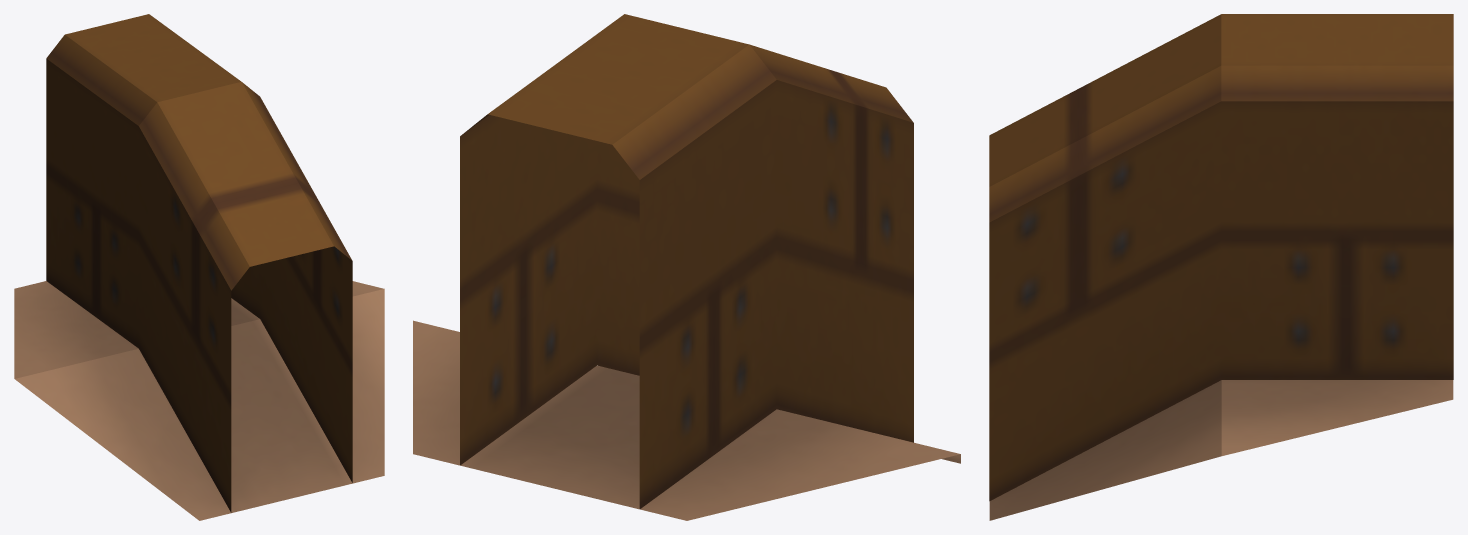
The model's file is Barriere_PHC.FBX.
The picture shows the model from 3 angles, left to right: view 1: azimuth 30°, elevation 25°; view 2: azimuth 150°, elevation 25°; view 3: azimuth 270°, elevation 25°; orthographic projection. The views are drawn at different scales.
Visible parts, largest first — view 1: Barriere_PHC; view 2: Barriere_PHC; view 3: Barriere_PHC.
Boxes of the visible parts, x1,y1,x2,y2 form: Barriere_PHC: (14,14,384,520); Barriere_PHC: (413,14,960,520); Barriere_PHC: (989,14,1453,520).
Size of the model in its own units: 1 by 0.8744 by 0.8663.
